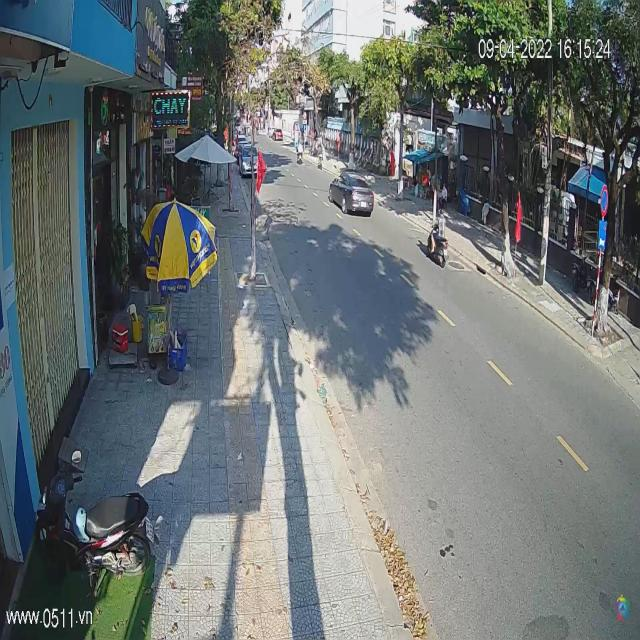car: (329, 172, 375, 216), (271, 130, 283, 142)
motorcycle: (430, 224, 449, 271), (238, 145, 262, 177)
